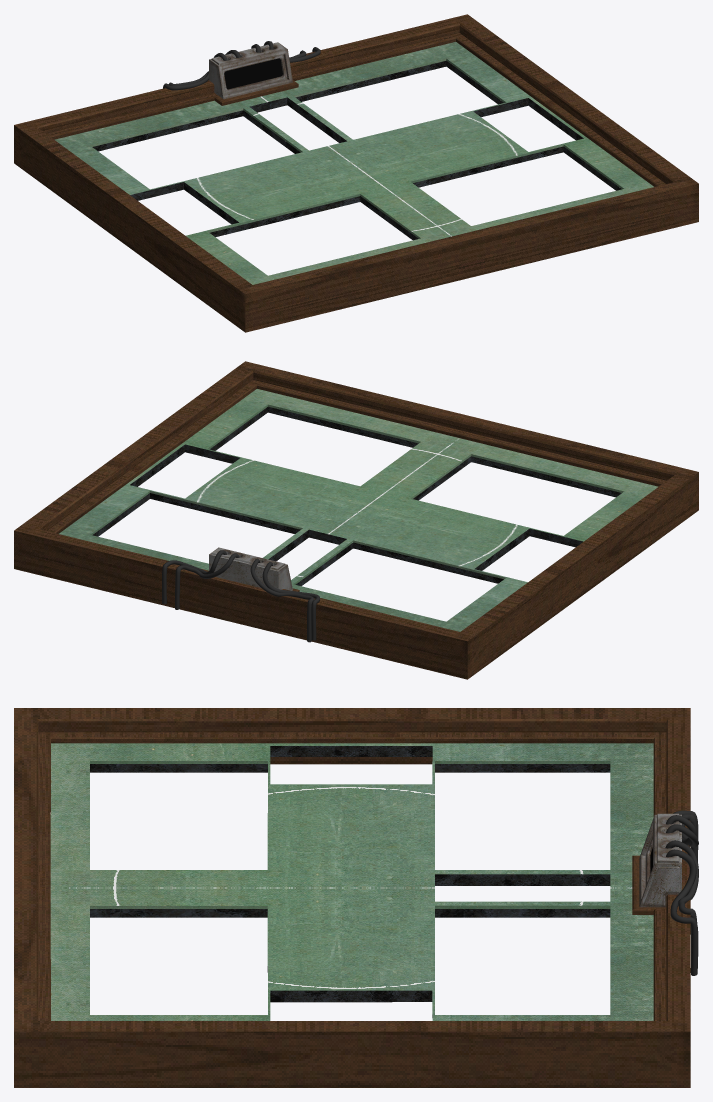
The model's file is tabletop health counter export1.glb.
3 renders of one model, top to bottom at view 1: azimuth 30°, elevation 25°; view 2: azimuth 150°, elevation 25°; view 3: azimuth 270°, elevation 25°, orthographic. The views are drawn at different scales.
Visible parts, largest first — view 1: main tabletop, health counter; view 2: main tabletop, health counter; view 3: main tabletop, health counter.
Part boxes in pixels (box(x1,y1,x2,y2)): main tabletop: box(14, 14, 698, 332); health counter: box(163, 41, 320, 99); main tabletop: box(14, 361, 698, 679); health counter: box(162, 547, 319, 642); main tabletop: box(14, 708, 690, 1087); health counter: box(639, 810, 698, 975).
Size of the model in its own units: 22.69 by 3.06 by 20.29.
9 materials, 7 textured.
